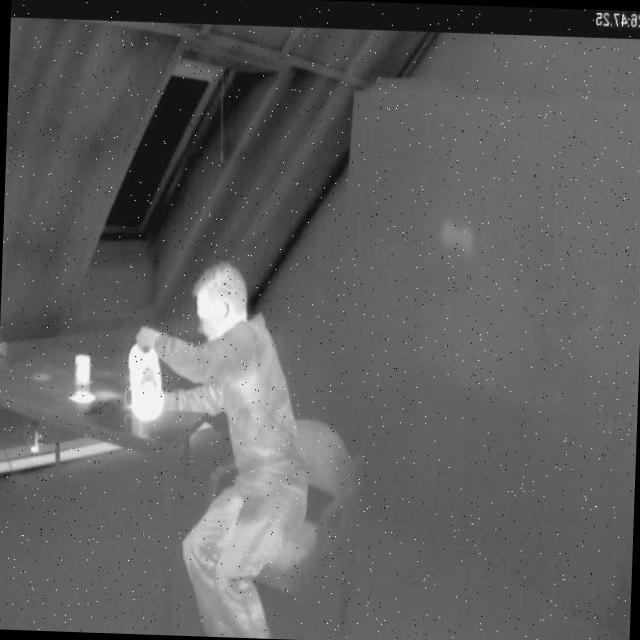person: (120, 250, 361, 640)
